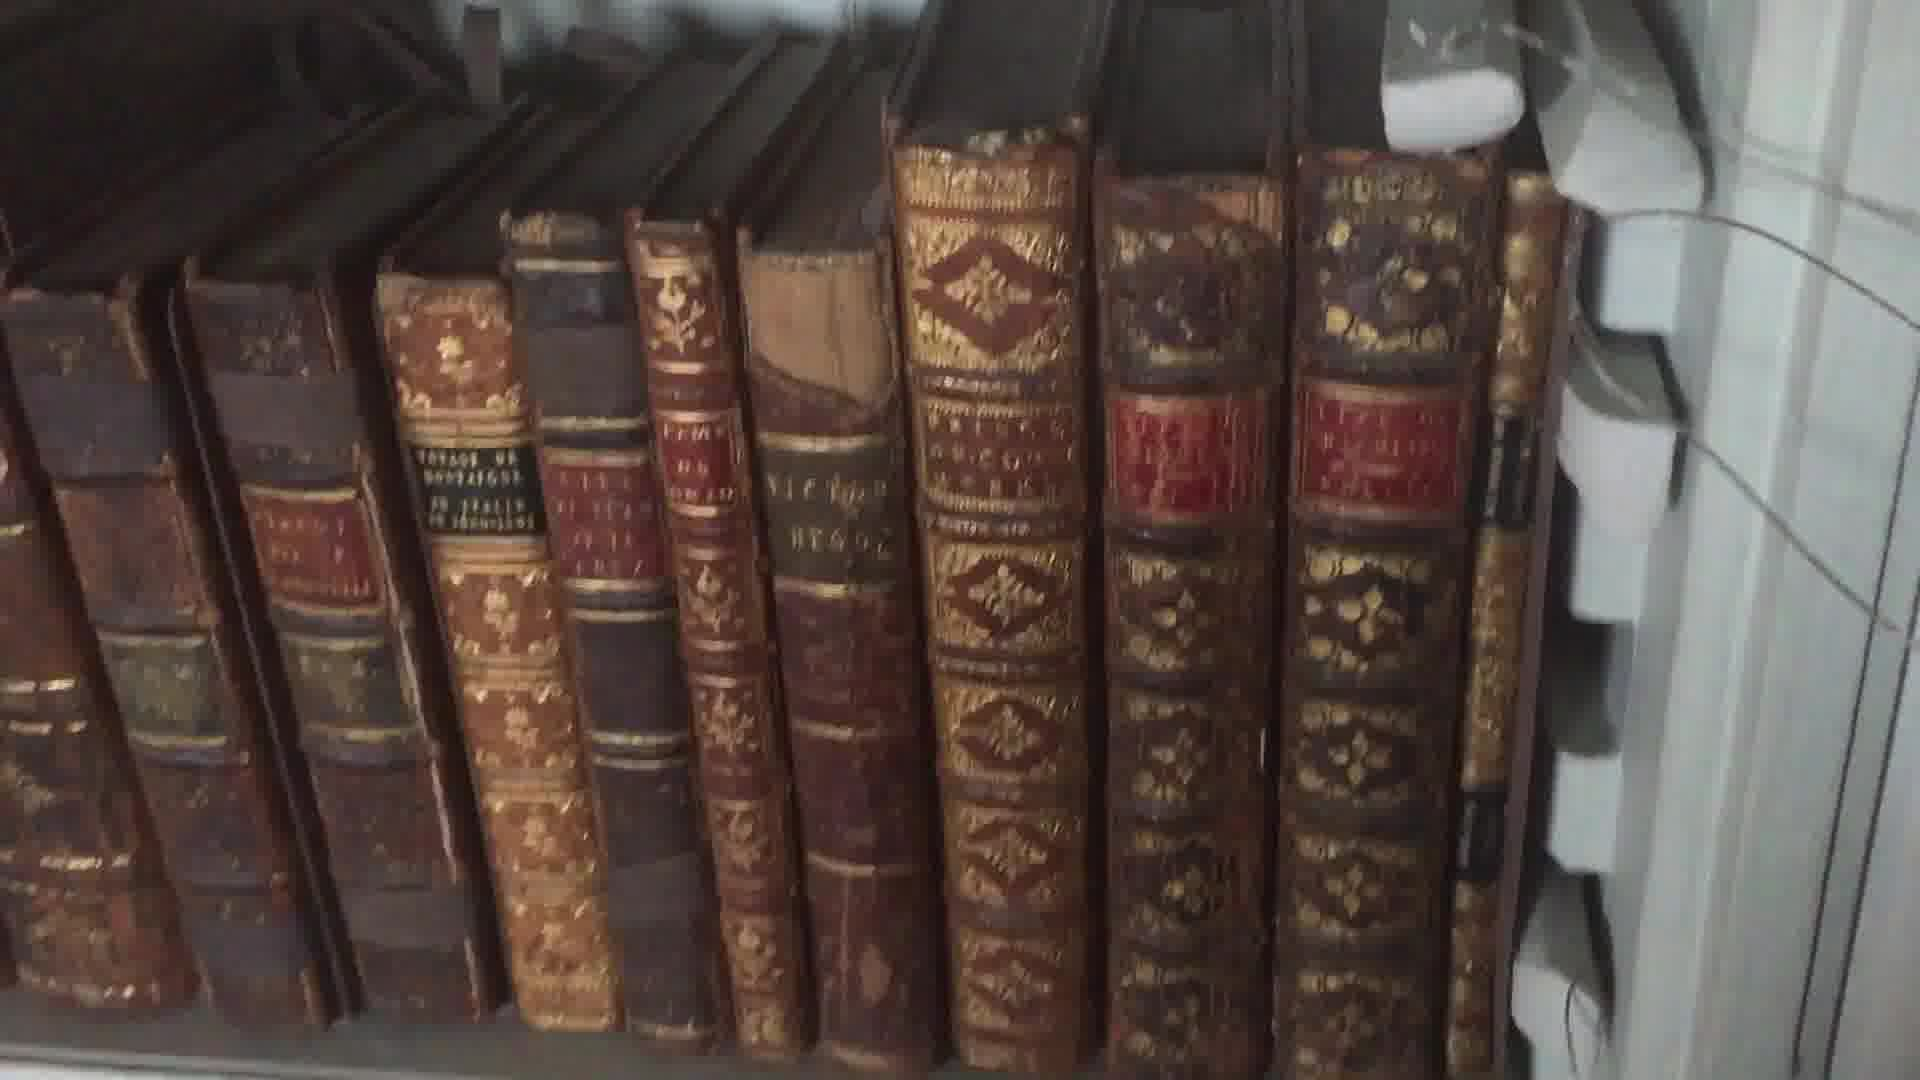Aa6-39_40: (29, 268, 485, 1048)
Aa6-41: (363, 248, 675, 1080)
Aa6-42: (472, 166, 752, 1062)
Aa6-43: (629, 179, 833, 1073)
Aa6-44: (713, 219, 945, 1080)
Aa6-45: (876, 112, 1092, 1080)
Aa6-46-47: (1102, 153, 1445, 1080)
Aa6-48: (1452, 161, 1581, 1075)
